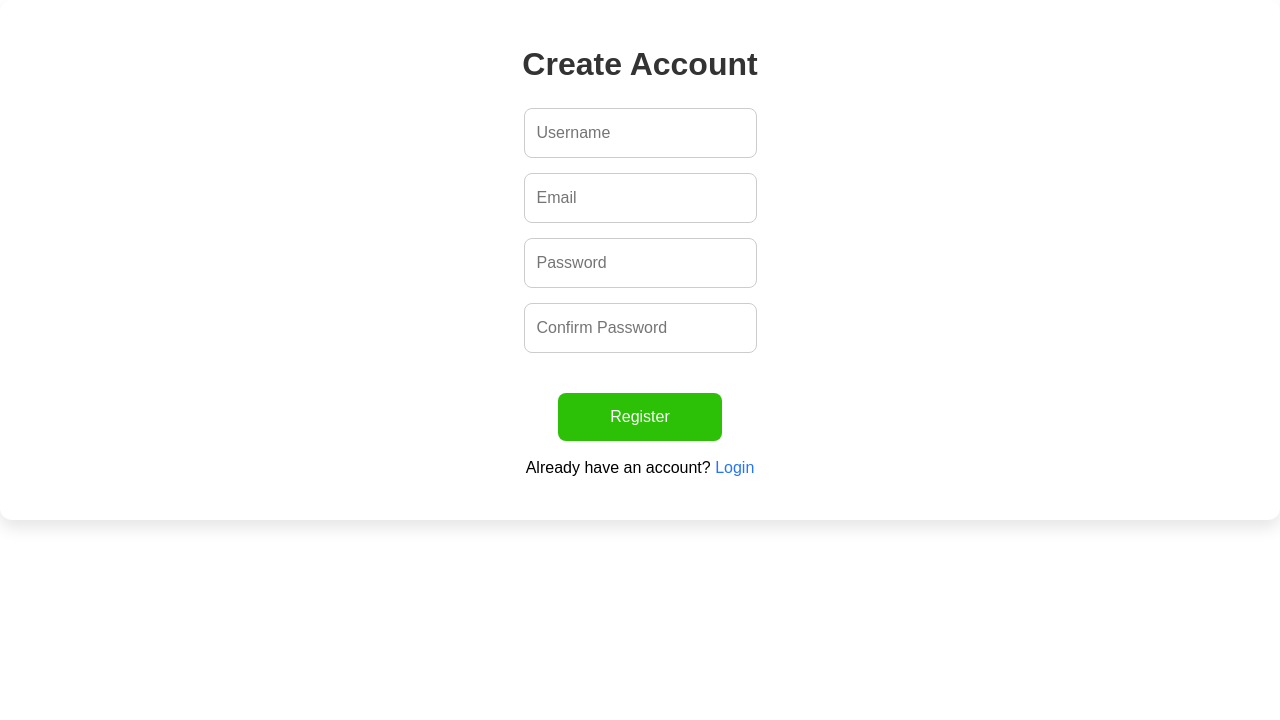
Scenario: Register.vue › when registration fails › should display error message for error response from registerUser
Type "testuser" into the field with placeholder "Username".
click(640, 133); type("testuser")  # box x1=524 y1=108 x2=756 y2=158
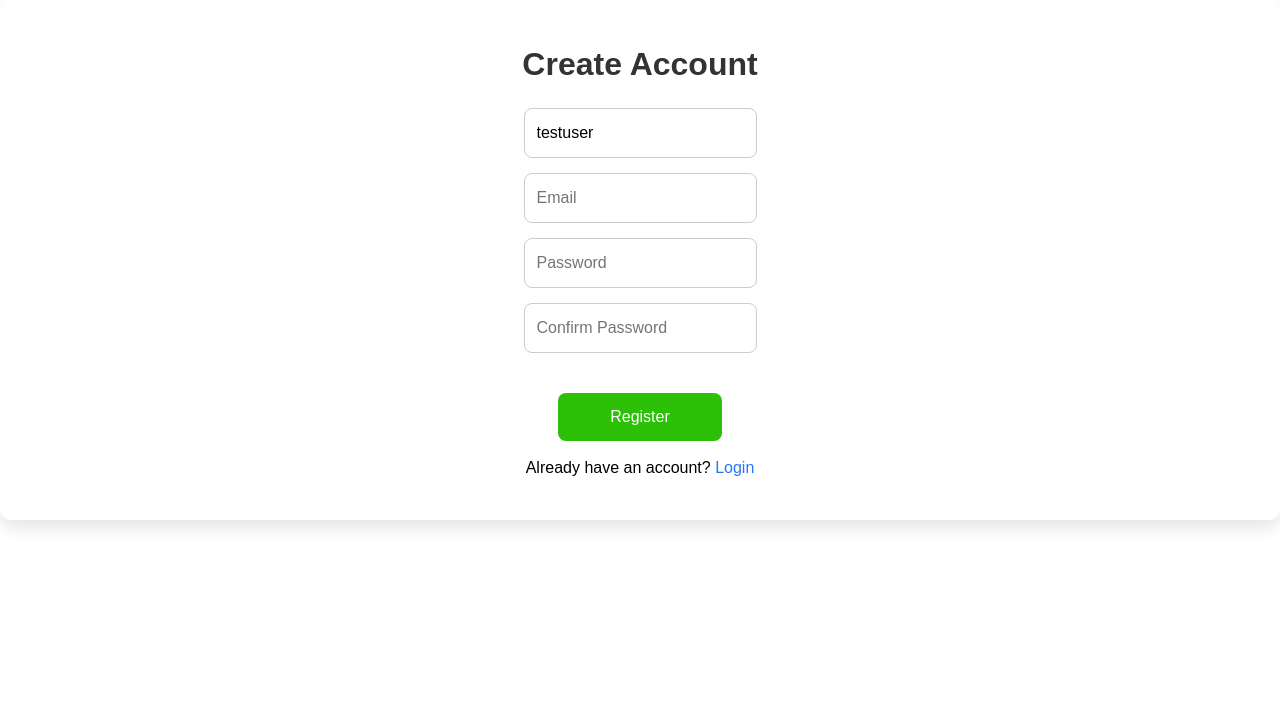
Type "test@example.com" into the field with placeholder "Email".
click(640, 198); type("test@example.com")  # box x1=524 y1=173 x2=756 y2=223
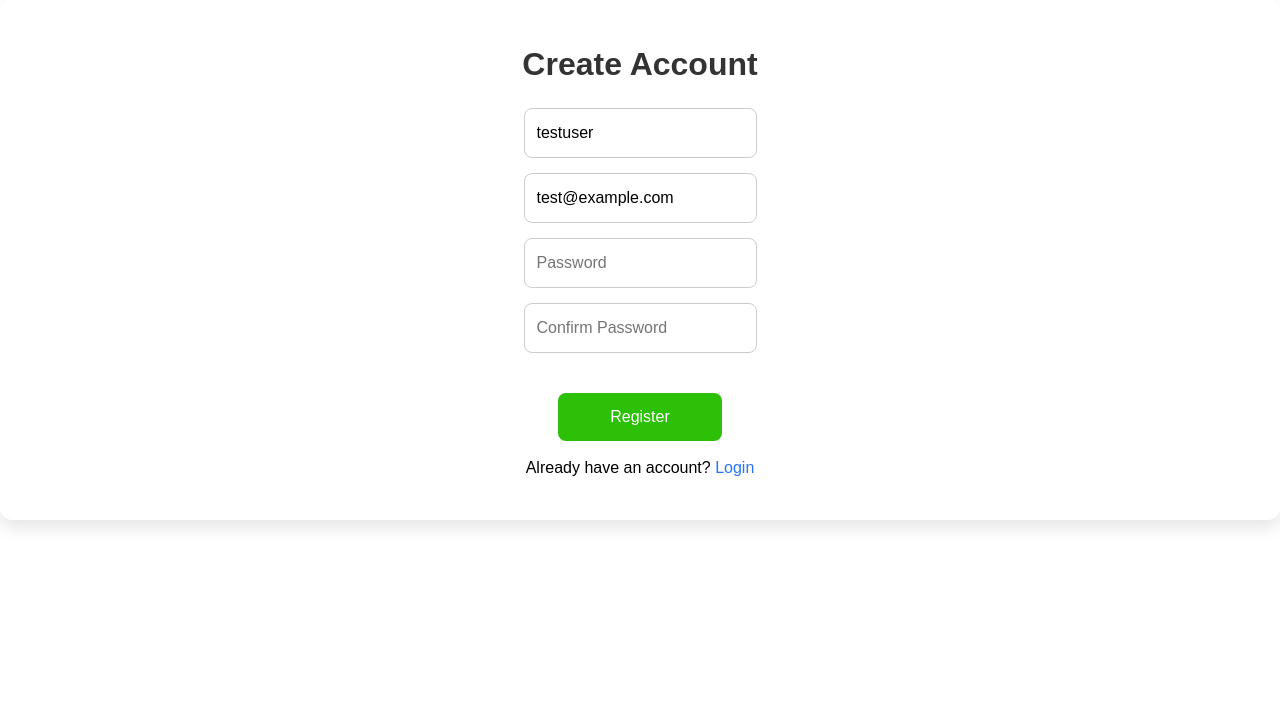
Type "password123" into the password field with placeholder "Password".
click(640, 263); type("password123")  # box x1=524 y1=238 x2=756 y2=288
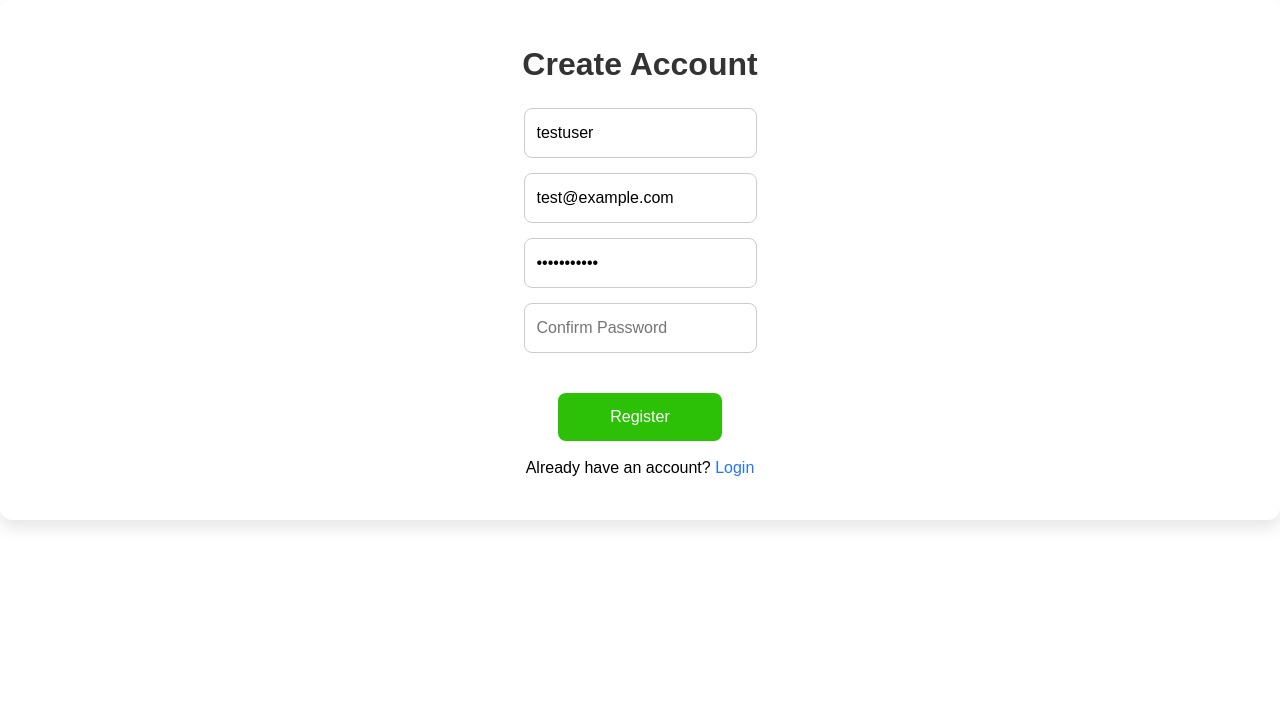
Type "password123" into the password field with placeholder "Confirm Password".
click(640, 328); type("password123")  # box x1=524 y1=303 x2=756 y2=353
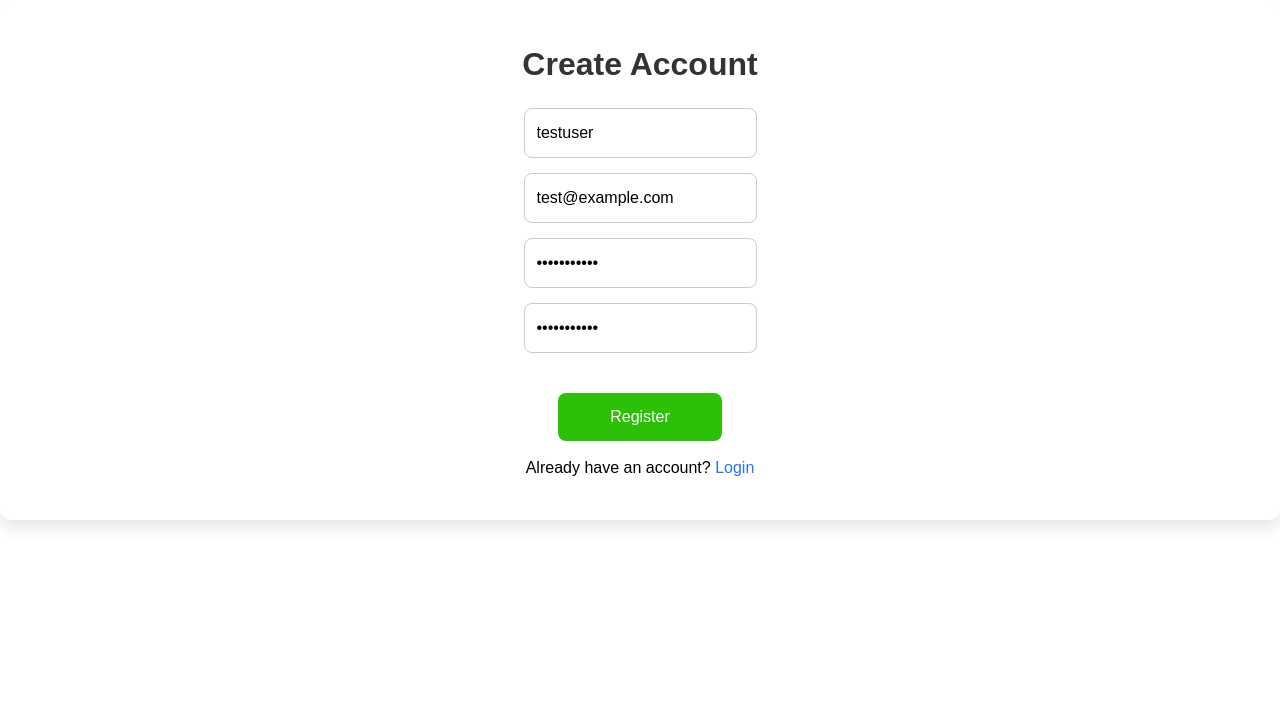
Submit the form, box x1=524 y1=108 x2=756 y2=441
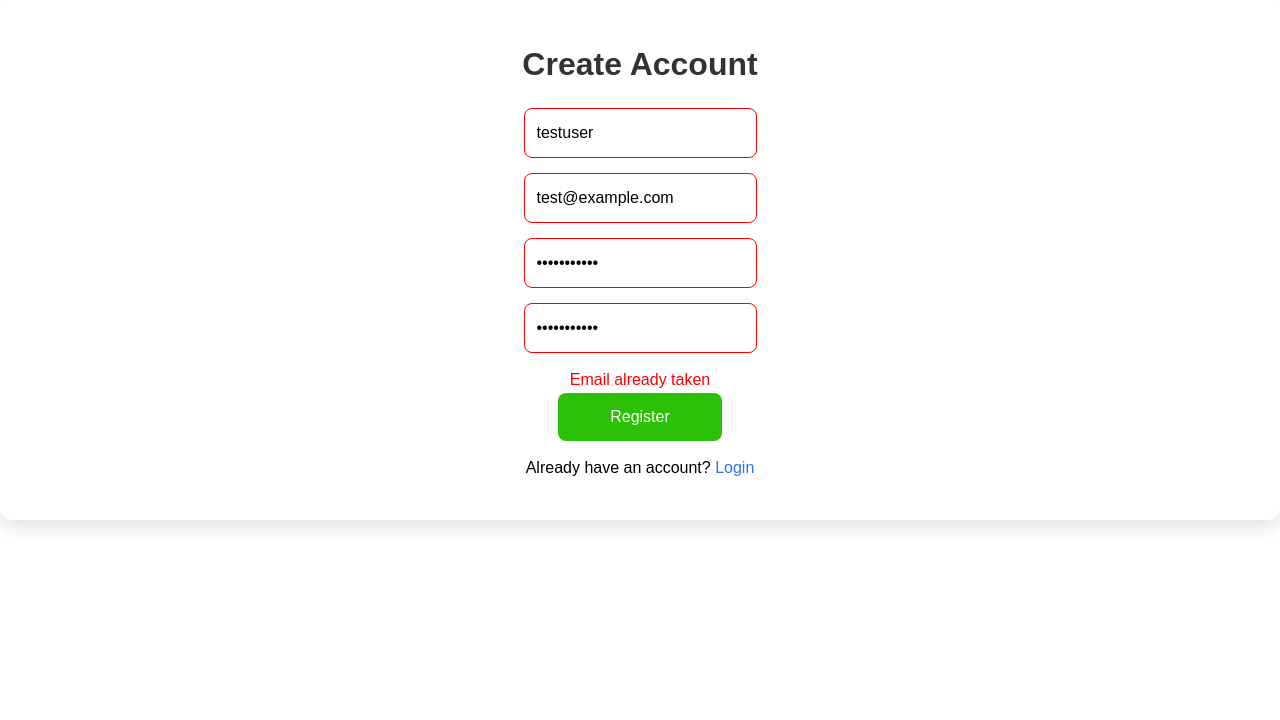
Expected: the text with class "error-message" reads "Email already taken", x1=570 y1=371 x2=710 y2=388
